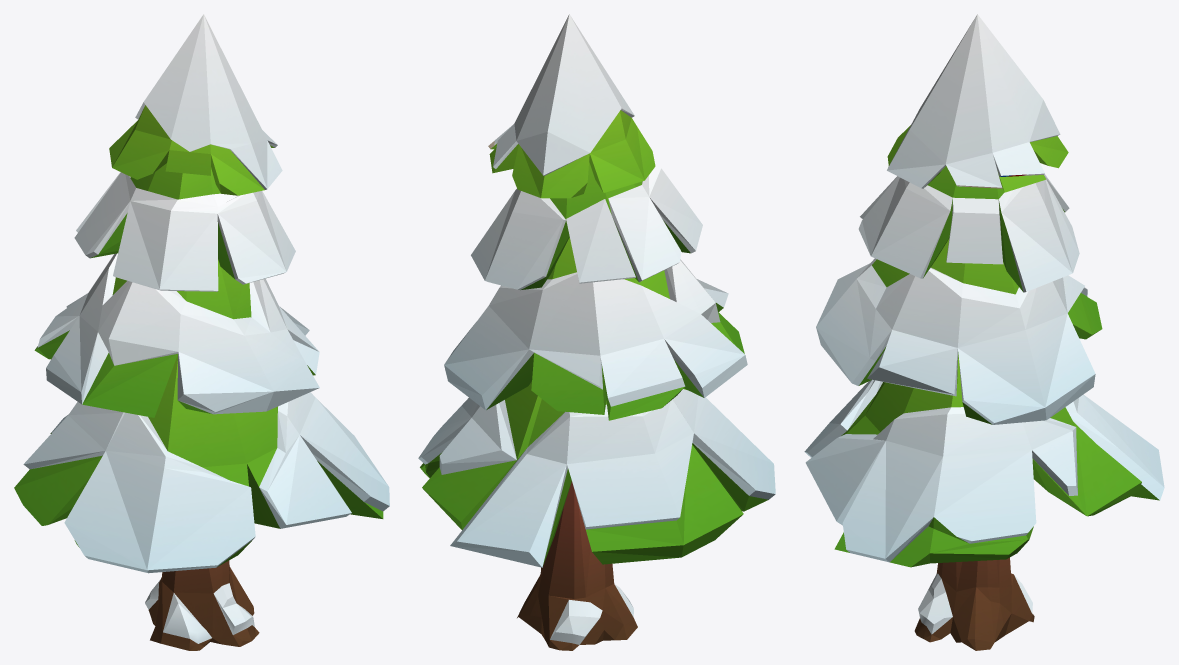
File: Cedar.FBX
3 renders of one model, left to right at view 1: azimuth 30°, elevation 25°; view 2: azimuth 150°, elevation 25°; view 3: azimuth 270°, elevation 25°, orthographic.
Parts seen in each view (by area): view 1: pCone8, pCone9; view 2: pCone8, pCone9; view 3: pCone8, pCone9.
Boxes of the visible parts, left/top/right/bottom form: pCone8: left=14, top=14, right=389, bottom=593; pCone9: left=145, top=567, right=259, bottom=650; pCone8: left=418, top=14, right=775, bottom=598; pCone9: left=517, top=574, right=637, bottom=650; pCone8: left=804, top=14, right=1164, bottom=591; pCone9: left=914, top=573, right=1034, bottom=650.
Bounding box in the file's own units: 4.82 × 9.07 × 4.82.
